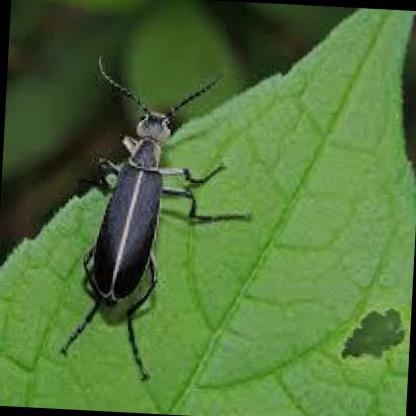blister beetle: (81, 64, 219, 306)
